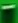black: (0, 0, 18, 23)
